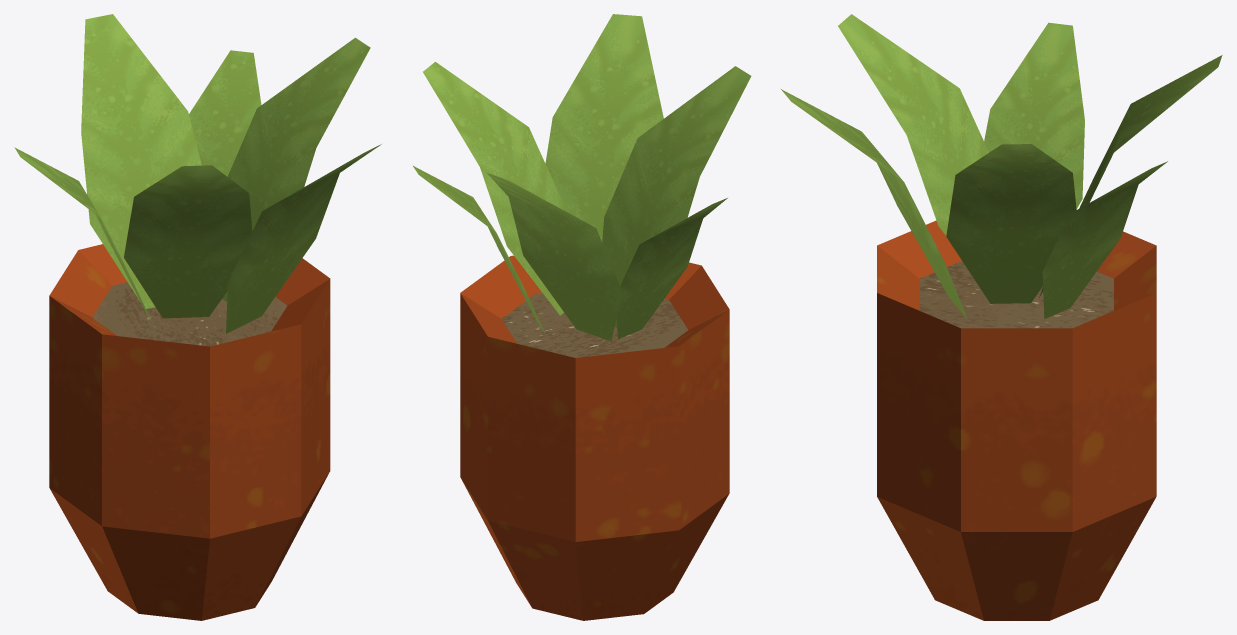
The model's file is SM_museumPottedPlant.fbx.
The picture shows the model from 3 angles, left to right: view 1: azimuth 30°, elevation 25°; view 2: azimuth 150°, elevation 25°; view 3: azimuth 270°, elevation 25°; orthographic projection. The views are drawn at different scales.
Visible parts, largest first — view 1: pottedPlant; view 2: pottedPlant; view 3: pottedPlant.
Boxes of the visible parts, x1,y1,x2,y2 form: pottedPlant: [14, 14, 381, 620]; pottedPlant: [413, 14, 751, 620]; pottedPlant: [781, 14, 1222, 620].
Size of the model in its own units: 8.01 by 11.69 by 8.81.
1 material, 1 textured.
